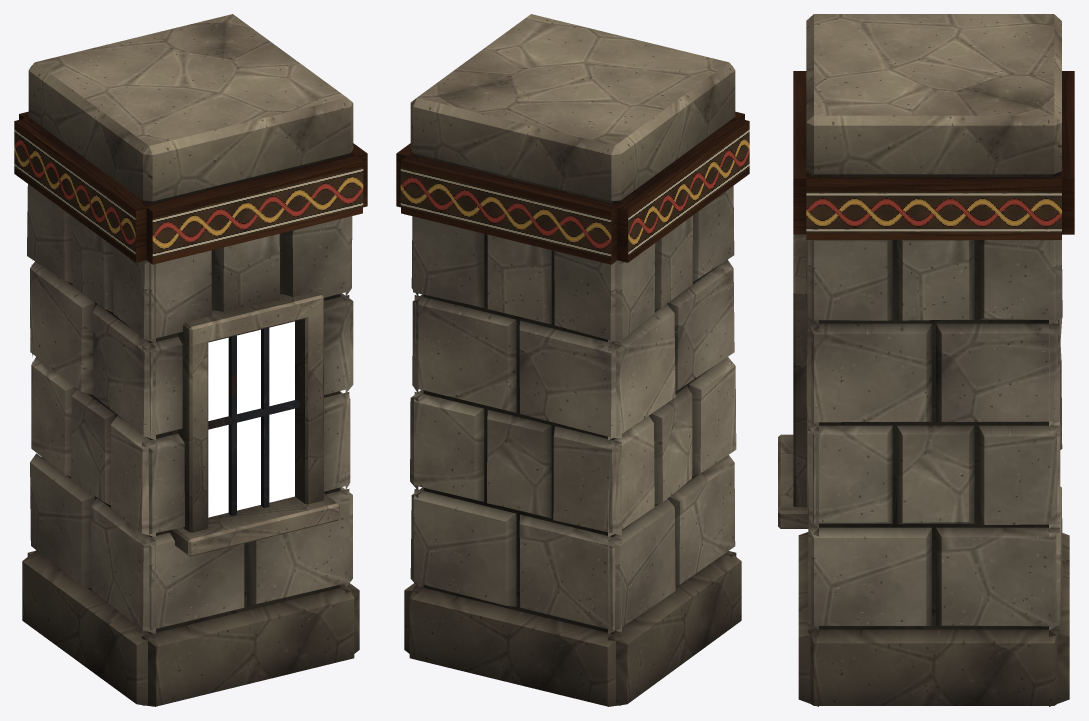
File: interior_wall_stone_window.glb
3 renders of one model, left to right at view 1: azimuth 30°, elevation 25°; view 2: azimuth 150°, elevation 25°; view 3: azimuth 270°, elevation 25°, orthographic. The views are drawn at different scales.
Visible parts, largest first — view 1: interior_wall_stone_window; view 2: interior_wall_stone_window; view 3: interior_wall_stone_window.
Part boxes in pixels (bbox=[...]): interior_wall_stone_window: bbox=[14, 14, 367, 706]; interior_wall_stone_window: bbox=[396, 14, 749, 706]; interior_wall_stone_window: bbox=[778, 14, 1074, 706].
Bounding box in the file's own units: 1.1 × 2.55 × 1.16.
Materials: 5 (4 with a texture image).
